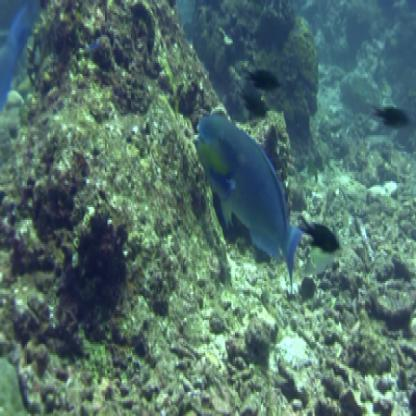Scaridae -Parrotfishes-: (196, 107, 305, 292)
